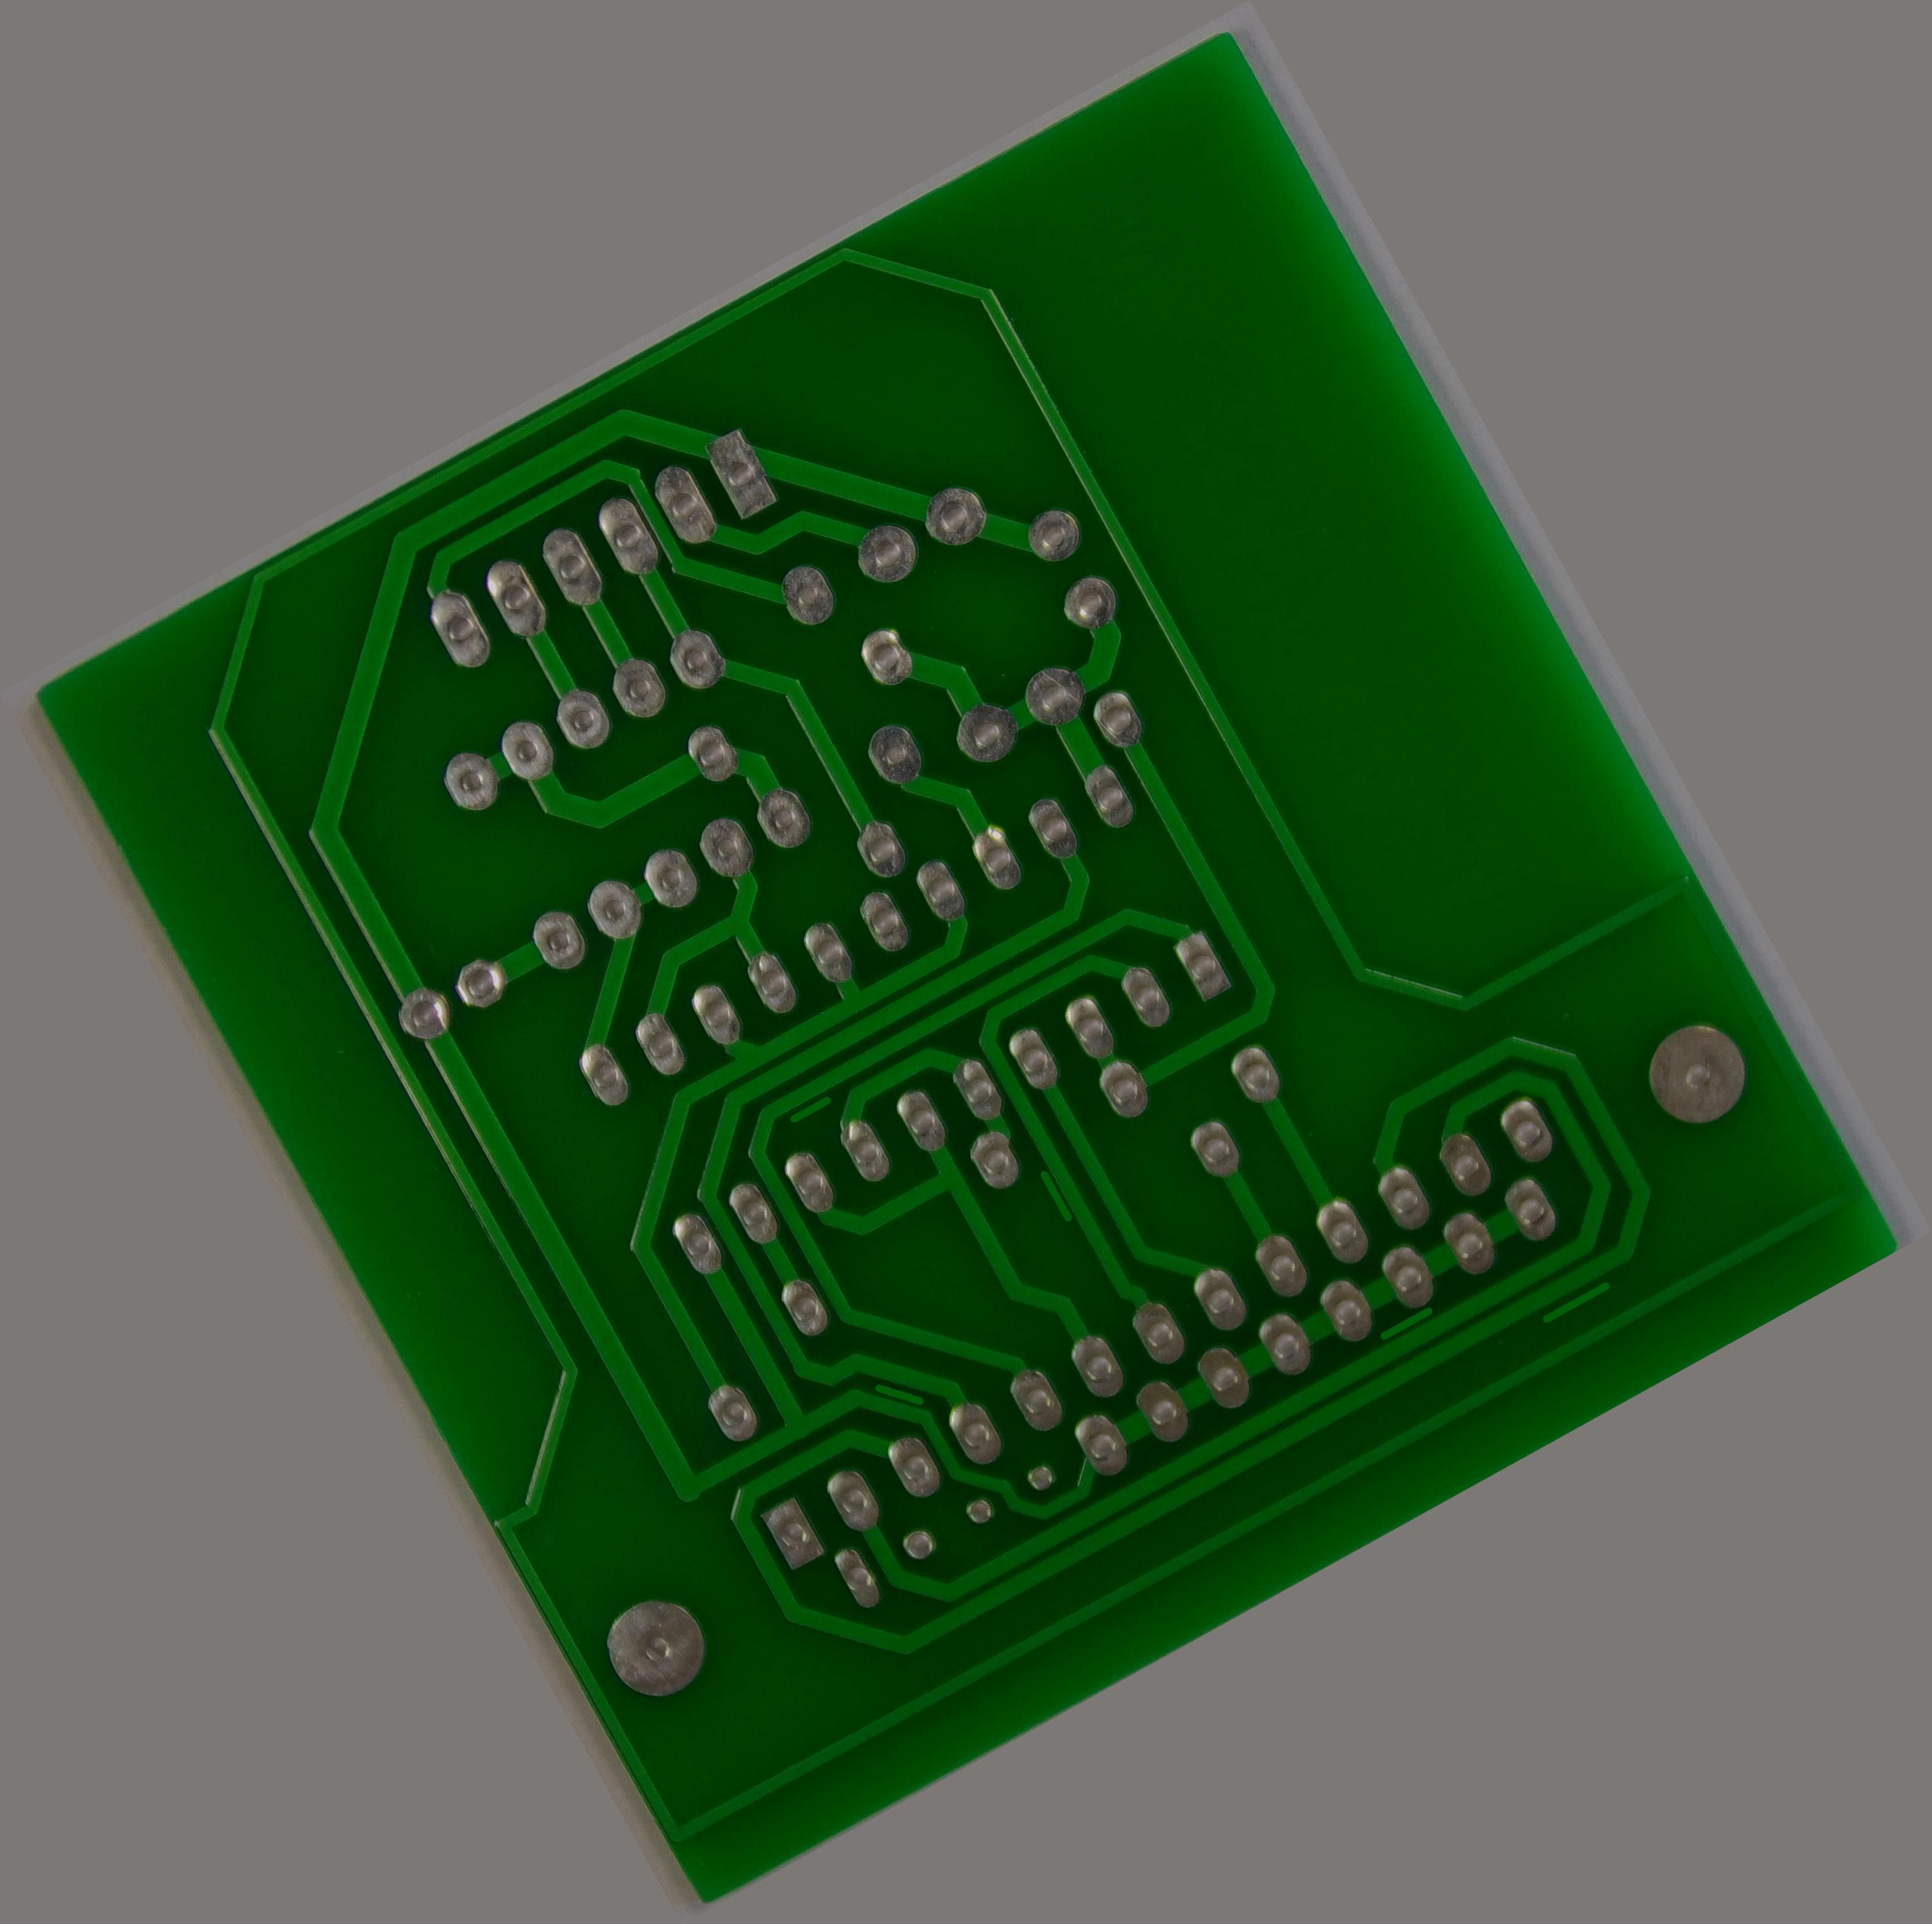spurious_copper: (1529, 1262, 1626, 1341), (863, 1355, 939, 1432), (1363, 1290, 1446, 1357), (1023, 1159, 1085, 1235), (771, 1078, 844, 1138)
